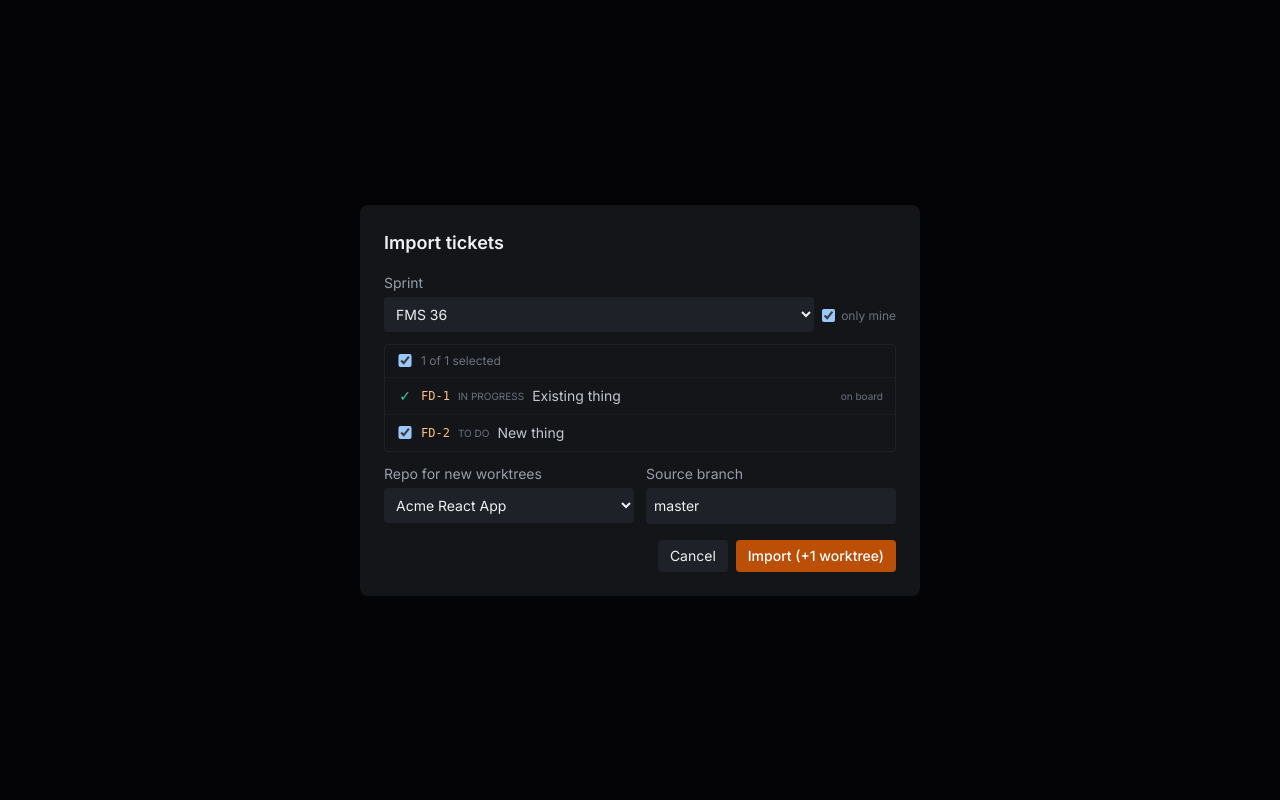
ImportTicketsDialog › marks tickets already on the board and scaffolds only the new ones
Expected: the text "Existing thing" is shown, [532,386,621,406]
Expected: the text "on board" is shown, [841,386,883,406]
What coordinates should you click on to do the following:
click the button "Import (+1 worktree)"
I would click on:
 (816, 556)
Its box is [736,540,896,572].
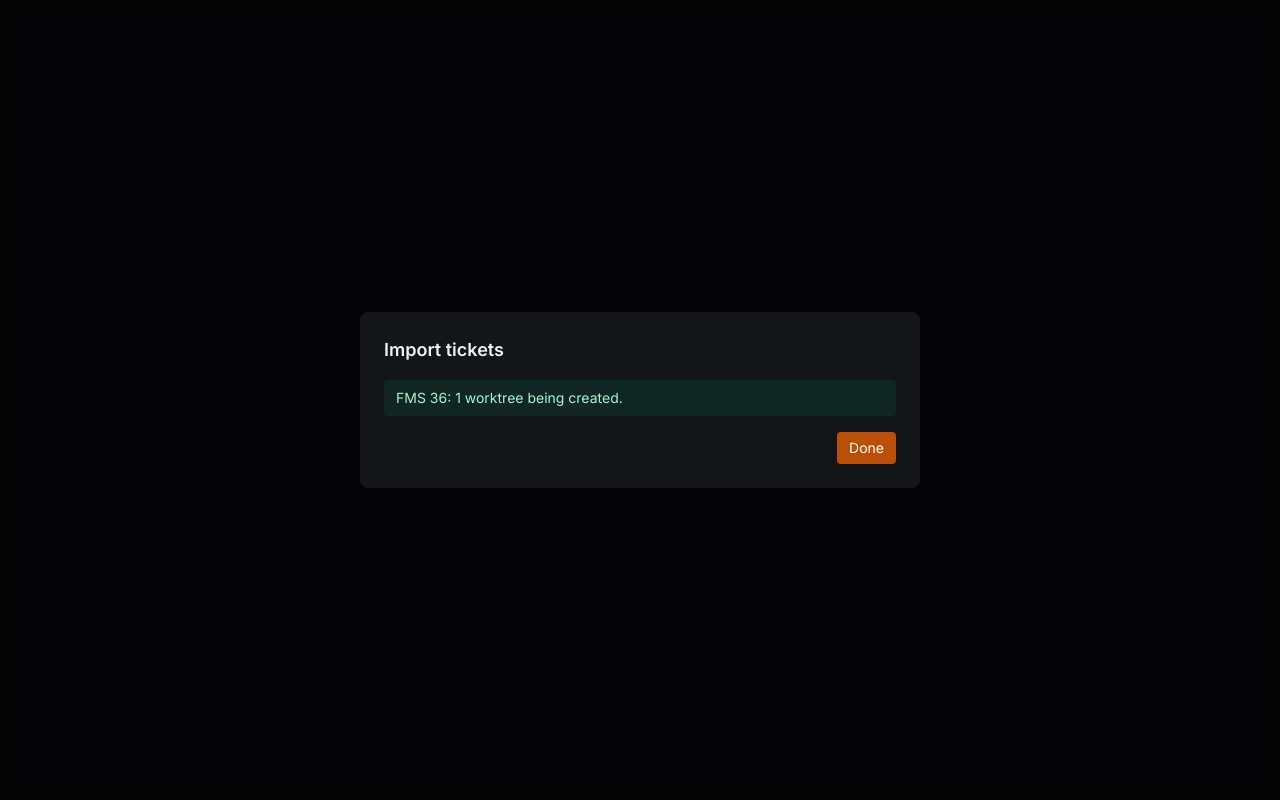
Expected: the text "FMS 36: 1 worktree being created." is shown, [384,380,896,416]
